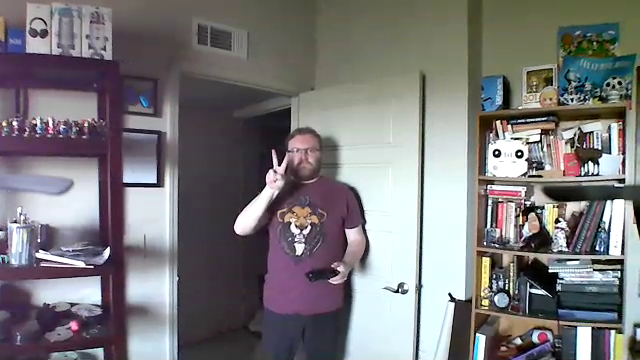peace: (266, 149, 290, 195)
